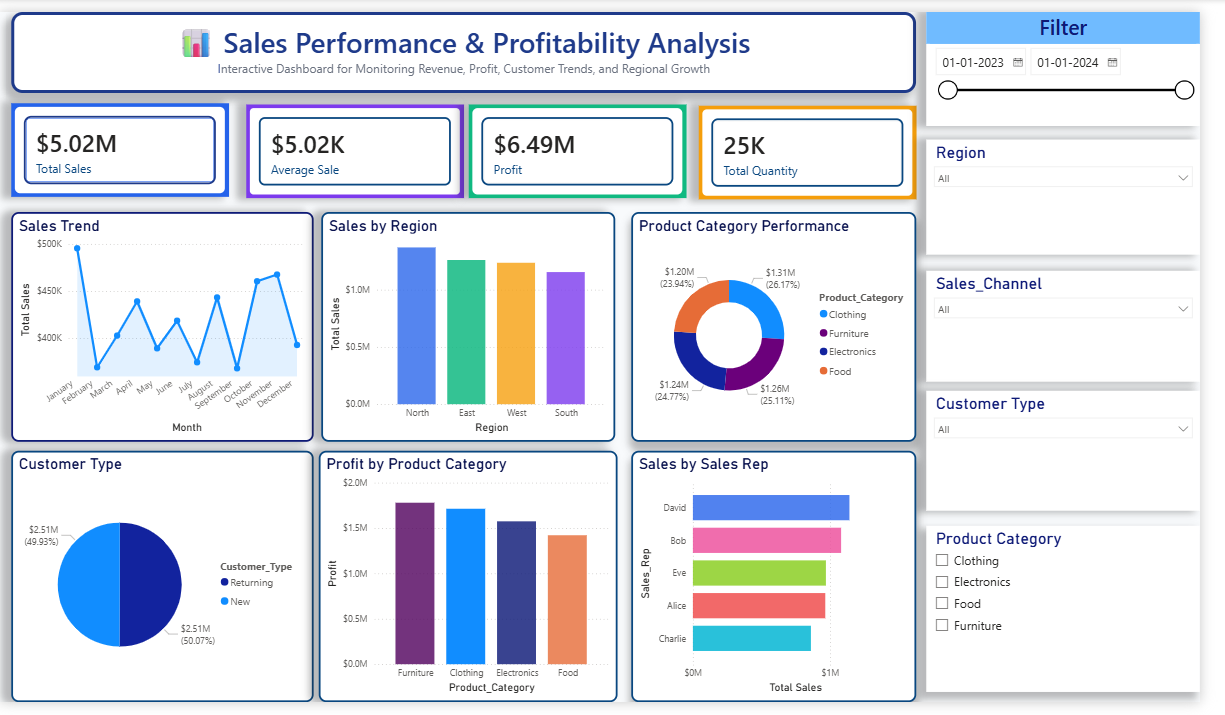

The dashboard page shown, as its layout file describes it:
{"tool":"powerbi","page":{"name":"Page 1","canvas":[1600,920],"ordinal":0},"visuals":[{"type":"textbox","box":[15,0,1206.7,108.3],"z":0},{"type":"cardVisual","fields":{"Data":["sales_data.Total Sales"]},"box":[15,121.7,290,125],"z":1},{"type":"cardVisual","fields":{"Data":["sales_data.Total Quantity"]},"box":[931.7,125,290,125],"z":2},{"type":"cardVisual","fields":{"Data":["sales_data.Average Sale"]},"box":[328.3,123.3,290,125],"z":3},{"type":"cardVisual","fields":{"Data":["sales_data.Profit"]},"box":[625,123.3,290,125],"z":4},{"type":"slicer","title":"Filter","fields":{"Values":["sales_data.Sale_Date"]},"box":[1235,0,365,151.7],"z":5},{"type":"slicer","fields":{"Values":["sales_data.Region"]},"box":[1235,170,365,153.3],"z":6},{"type":"slicer","fields":{"Values":["sales_data.Product_Category"]},"box":[1235,685,365,221.7],"z":7},{"type":"slicer","fields":{"Values":["sales_data.Sales_Channel"]},"box":[1235,345,365,148.3],"z":8},{"type":"slicer","fields":{"Values":["sales_data.Customer_Type"]},"box":[1235,505,365,160],"z":9},{"type":"lineChart","title":"Sales Trend","fields":{"Y":["sales_data.Total Sales"],"Category":["sales_data.Sale_Date.Variation.Date Hierarchy.Month"]},"box":[15,266.7,403.3,306.7],"z":10},{"type":"clusteredColumnChart","title":"Sales by Region","fields":{"Category":["sales_data.Region"],"Y":["sales_data.Total Sales"]},"box":[428.3,266.7,391.7,306.7],"z":11},{"type":"donutChart","title":"Product Category Performance","fields":{"Category":["sales_data.Product_Category"],"Y":["sales_data.Total Sales"]},"box":[841.7,266.7,380,306.7],"z":12},{"type":"pieChart","title":"Customer Type","fields":{"Category":["sales_data.Customer_Type"],"Y":["sales_data.Total Sales"]},"box":[15,585,403.3,335],"z":13},{"type":"clusteredBarChart","title":"Sales by Sales Rep","fields":{"Category":["sales_data.Sales_Rep"],"Y":["sales_data.Total Sales"]},"box":[841.7,585,380,335],"z":14},{"type":"clusteredColumnChart","title":"Profit by Product Category","fields":{"Category":["sales_data.Product_Category"],"Y":["sales_data.Profit"]},"box":[425,585,398.3,335],"z":15}]}

Visuals, with their boxes in screenshot pixels (x1, y1, x2, y2), scaled from the page's 1600x920 canvas onto the 1225x715 screenshot:
textbox: box=[11, 0, 935, 84]
cardVisual - sales_data.Total Sales: box=[11, 95, 234, 192]
cardVisual - sales_data.Total Quantity: box=[713, 97, 935, 194]
cardVisual - sales_data.Average Sale: box=[251, 96, 473, 193]
cardVisual - sales_data.Profit: box=[479, 96, 701, 193]
"Filter" slicer: box=[946, 0, 1224, 118]
slicer - sales_data.Region: box=[946, 132, 1224, 251]
slicer - sales_data.Product_Category: box=[946, 532, 1224, 705]
slicer - sales_data.Sales_Channel: box=[946, 268, 1224, 383]
slicer - sales_data.Customer_Type: box=[946, 392, 1224, 517]
"Sales Trend" lineChart: box=[11, 207, 320, 446]
"Sales by Region" clusteredColumnChart: box=[328, 207, 628, 446]
"Product Category Performance" donutChart: box=[644, 207, 935, 446]
"Customer Type" pieChart: box=[11, 455, 320, 714]
"Sales by Sales Rep" clusteredBarChart: box=[644, 455, 935, 714]
"Profit by Product Category" clusteredColumnChart: box=[325, 455, 630, 714]
